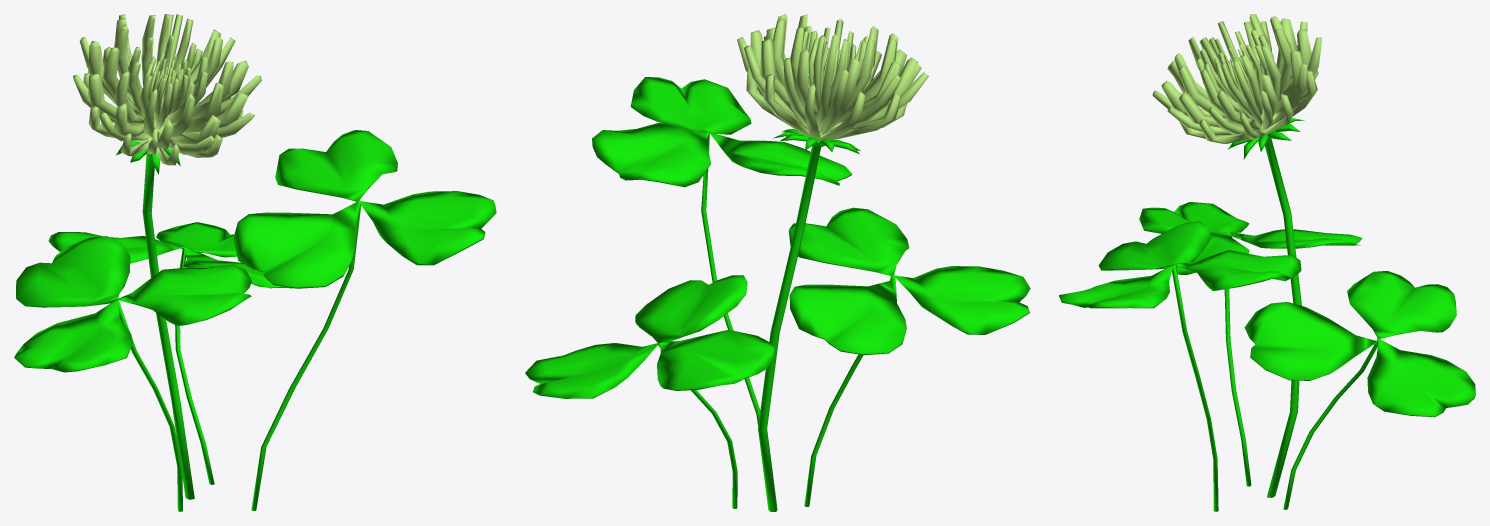
Rendered from White_Clover_LP_3.fbx.
3 views of the same model, side by side, from view 1: azimuth 30°, elevation 25°; view 2: azimuth 150°, elevation 25°; view 3: azimuth 270°, elevation 25° (orthographic). The views are drawn at different scales.
Visible parts, largest first — view 1: WhiteClover_LP_3; view 2: WhiteClover_LP_3; view 3: WhiteClover_LP_3.
Part boxes in pixels (x1,y1,x2,y2): WhiteClover_LP_3: (14,14,496,511); WhiteClover_LP_3: (525,14,1030,511); WhiteClover_LP_3: (1059,14,1475,511).
Bounding box in the file's own units: 95.63 × 105 × 87.73.
